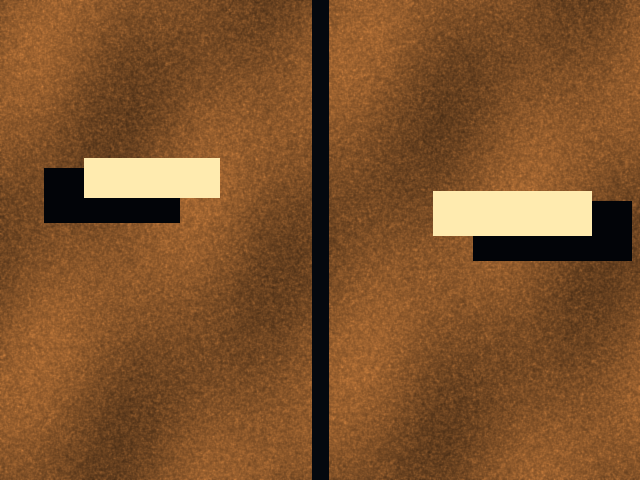Metal Object: (433, 191, 591, 235), (84, 158, 219, 197)
